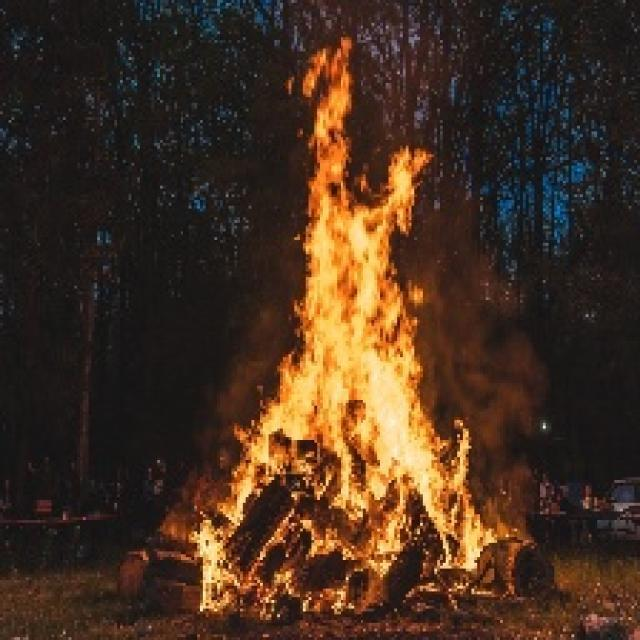Fire: (196, 38, 488, 555)
